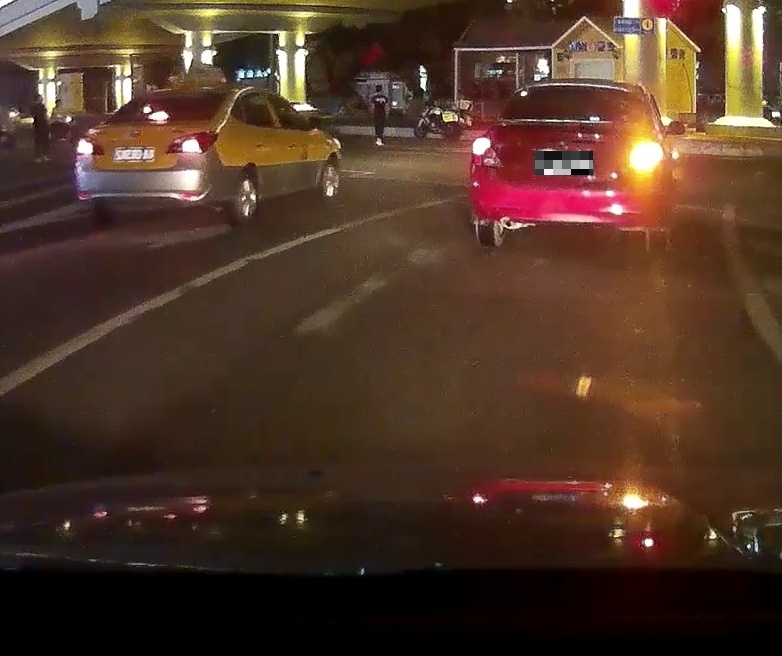L_light: (472, 138, 503, 168), (77, 136, 104, 155)
R_light: (166, 131, 218, 153), (630, 140, 664, 173)
T_light: (568, 84, 591, 94), (148, 111, 169, 120)
night-brake: (75, 85, 230, 223)
night-right: (469, 78, 668, 252)
plate_1: (535, 151, 593, 175)
